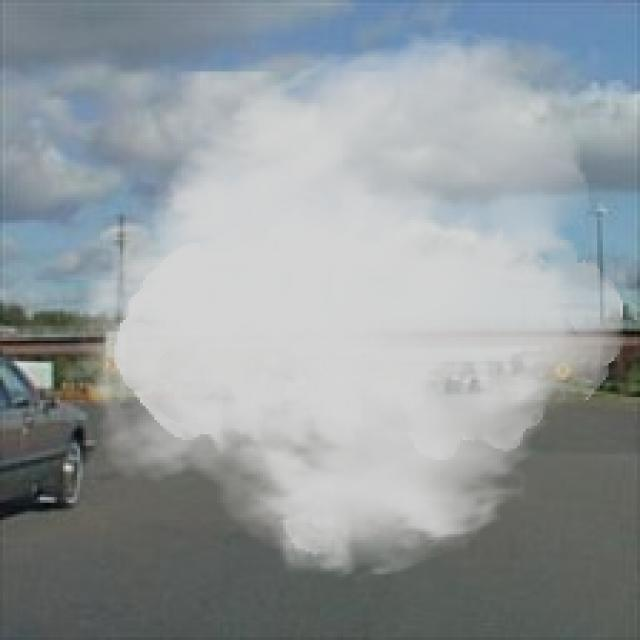smoke: (57, 23, 626, 583)
